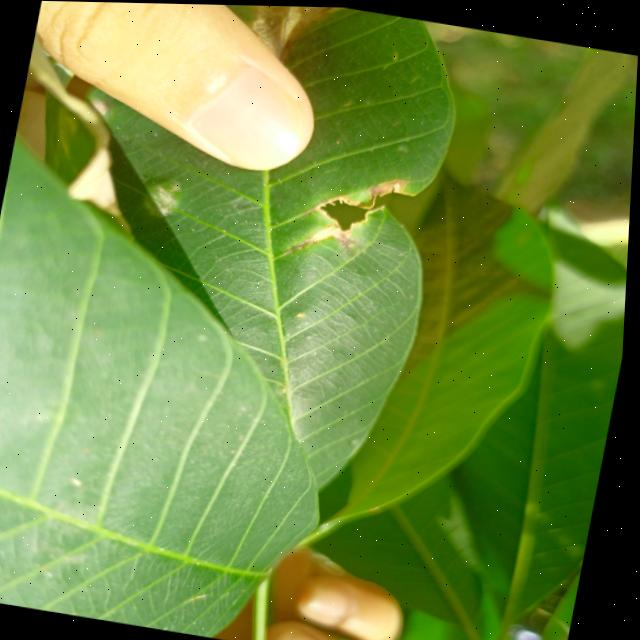Corynespora: (322, 6, 370, 19)
Leaf-Blight: (230, 4, 346, 69)
